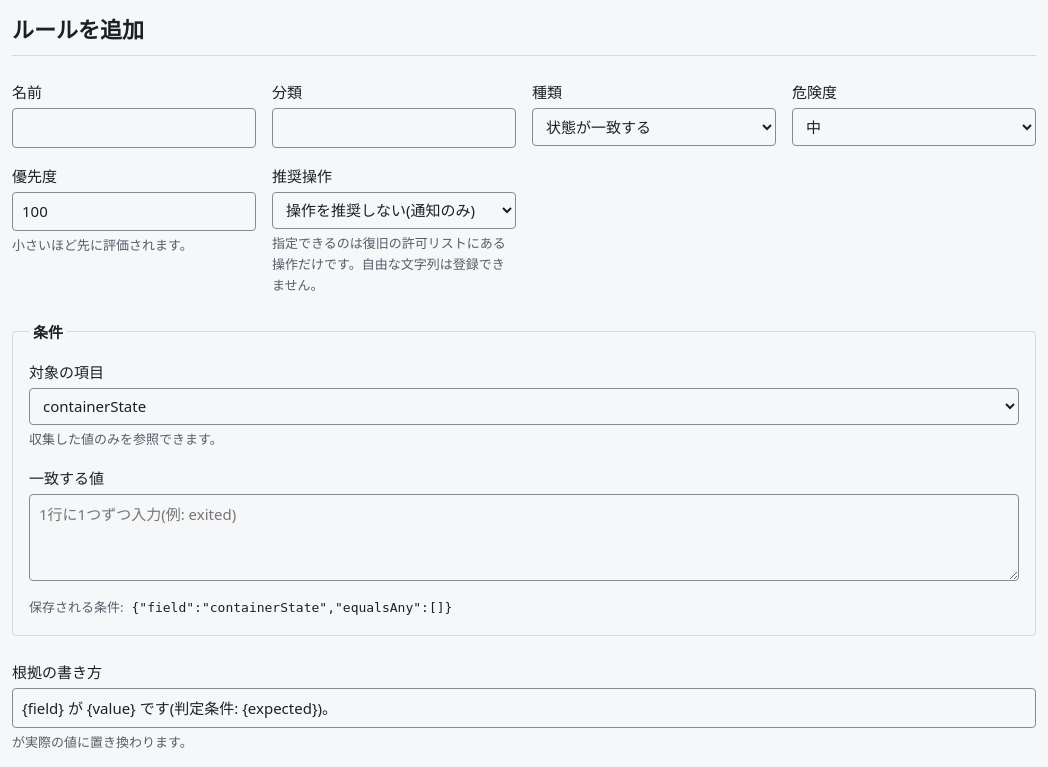
Test: RuleEditView › しきい値ルールでは比較と値の欄に切り替わる
Step 1. Select "数値がしきい値を超える" in the dropdown with id "rule-type" → (654, 127), box [532,108,776,146]
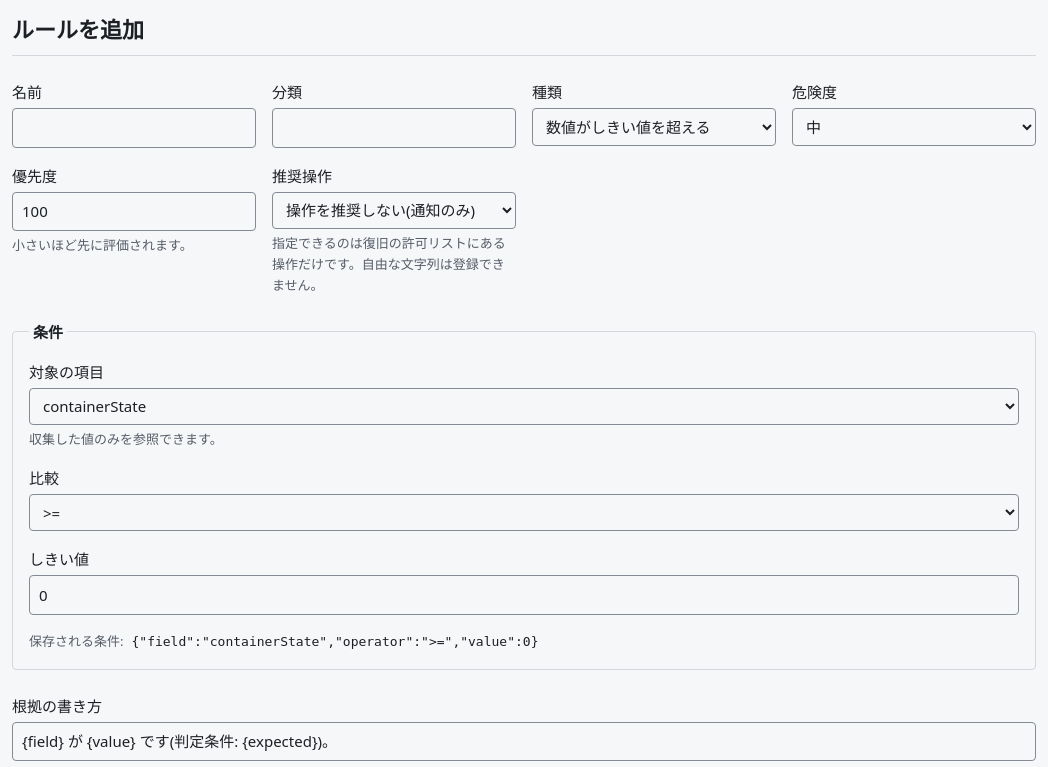
Step 2. Select "memoryUsagePercent" in the dropdown with id "condition-field" → (524, 406), box [29,388,1019,425]
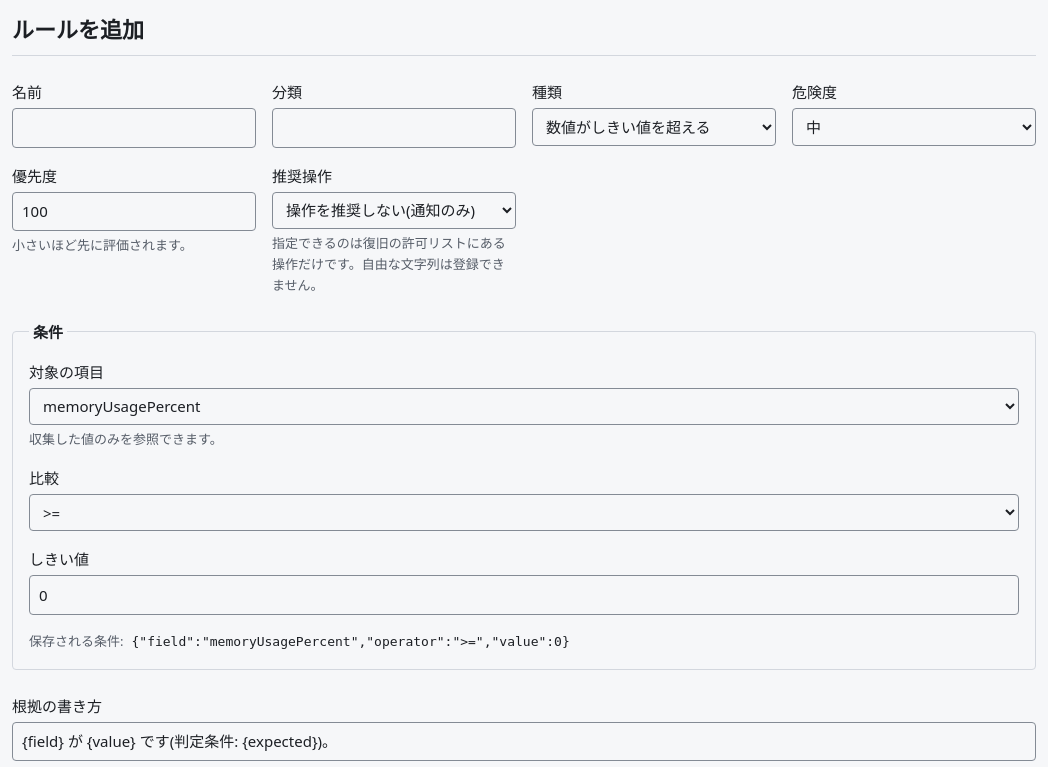
Step 3. Select ">=" in the dropdown with id "condition-operator" → (524, 513), box [29,494,1019,531]
Step 4. Replace the text in the number field with id "condition-value" with "90" → (524, 595), box [29,575,1019,615]
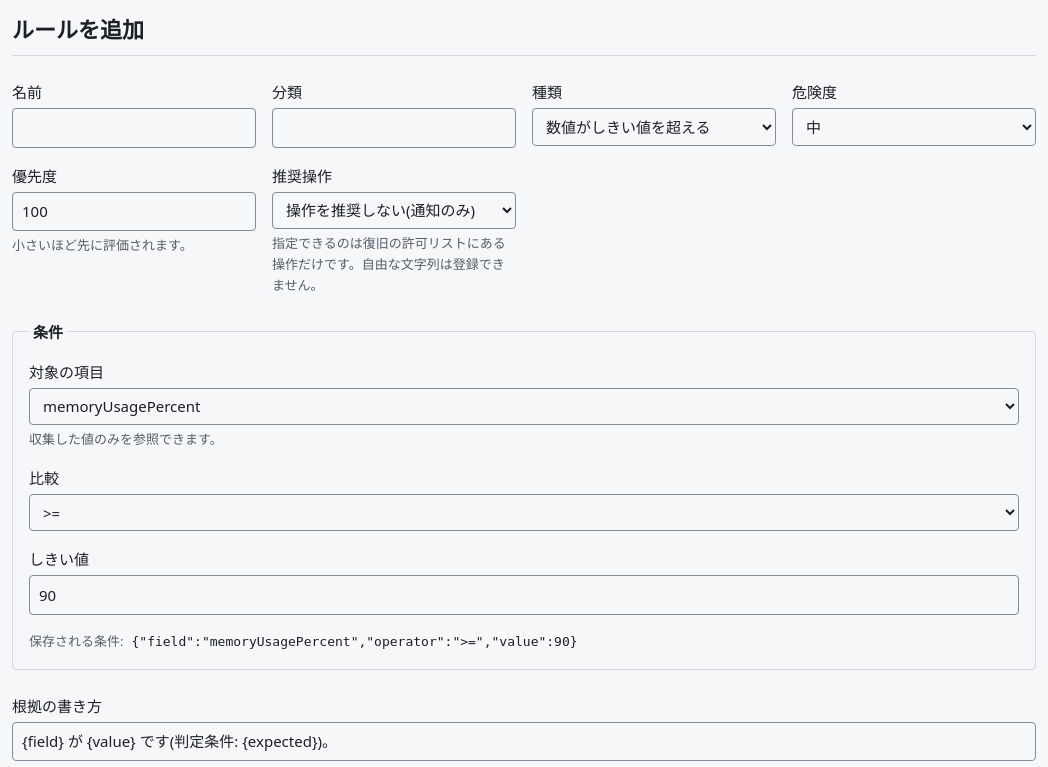
expect the text with test id "condition-preview" reads "{\"field\":\"memoryUsagePercent\",\"operator\":\">=\",\"value\":90}": met, box [132,634,578,649]
